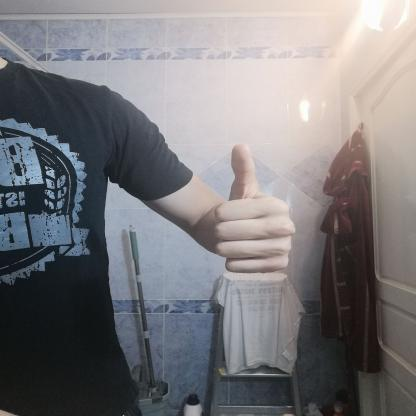ALIF: (198, 132, 312, 288)
